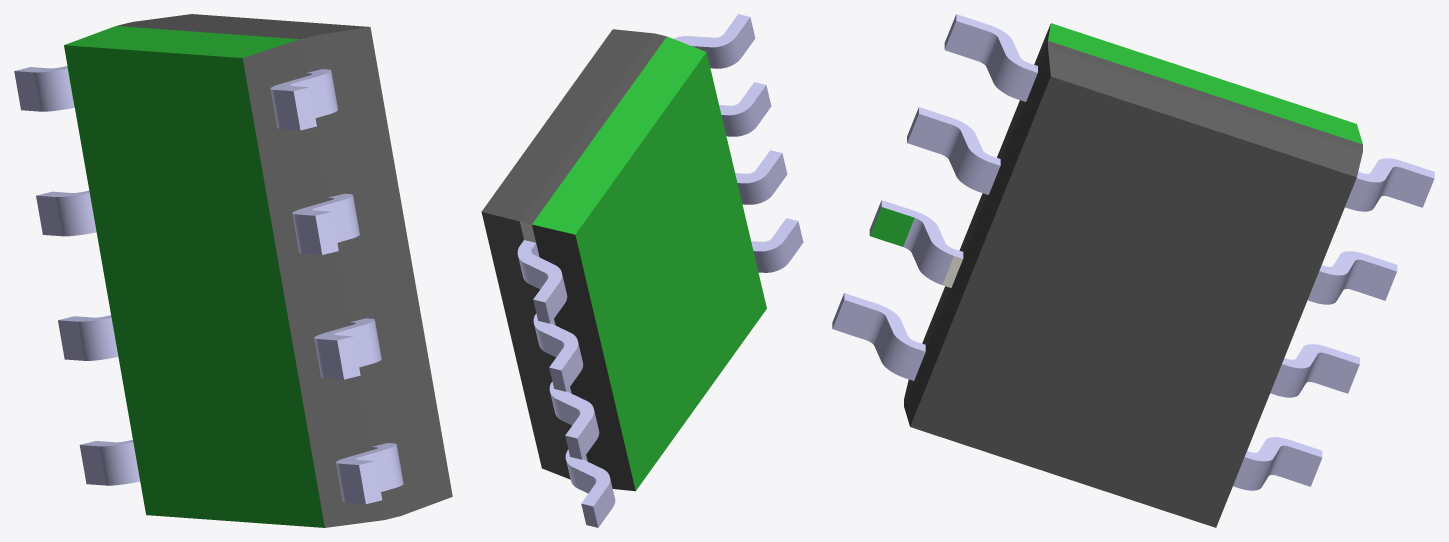
The model's file is EBoxNewAsm_stp_1_IMC413_stp_1_IMC413_14_stp_1_solid1.obj.
3 renders of one model, left to right at view 1: azimuth 30°, elevation 25°; view 2: azimuth 150°, elevation 25°; view 3: azimuth 270°, elevation 25°, orthographic. The views are drawn at different scales.
Visible parts, largest first — view 1: mesh10464, mesh10415, mesh10462, mesh10463, mesh10417, mesh10413, mesh10414, mesh10447, mesh10520, mesh10477, mesh10506, mesh10491 (+18 smaller); view 2: mesh10464, mesh10463, mesh10417, mesh10498, mesh10469, mesh10467, mesh10522, mesh10508, mesh10480, mesh10494, mesh10429, mesh10401 (+14 smaller); view 3: mesh10416, mesh10417, mesh10463, mesh10415, mesh10467, mesh10503, mesh10404, mesh10517, mesh10452, mesh10474, mesh10423, mesh10488 (+18 smaller).
Part boxes in pixels (x1,y1,x2,y2): mesh10464: (64,45,324,527); mesh10415: (316,27,452,515); mesh10462: (242,39,383,527); mesh10463: (64,26,298,57); mesh10417: (133,14,368,35); mesh10413: (315,114,344,197); mesh10414: (337,238,365,321); mesh10447: (359,363,387,446); mesh10520: (33,68,74,111); mesh10477: (99,442,139,485); mesh10506: (55,193,95,236); mesh10491: (77,318,117,360); mesh10464: (575,52,766,490); mesh10463: (532,36,706,234); mesh10417: (481,29,654,221); mesh10498: (532,224,635,491); mesh10469: (481,212,570,479); mesh10467: (520,33,666,224); mesh10522: (517,240,561,302); mesh10508: (533,313,578,370); mesh10480: (565,449,610,506); mesh10494: (549,381,594,438); mesh10429: (673,14,749,47); mesh10401: (727,105,756,136); mesh10416: (910,76,1356,527); mesh10417: (1048,47,1362,177); mesh10463: (1048,23,1362,144); mesh10415: (904,48,1050,426); mesh10467: (1048,41,1362,151); mesh10503: (1352,261,1396,300); mesh10404: (907,114,951,153); mesh10517: (1389,168,1434,207); mesh10452: (870,207,914,246); mesh10474: (1277,446,1321,486); mesh10423: (944,21,989,60); mesh10488: (1315,353,1359,393).
Bounding box in the file's own units: 0.00152 × 0.00598 × 0.007.
